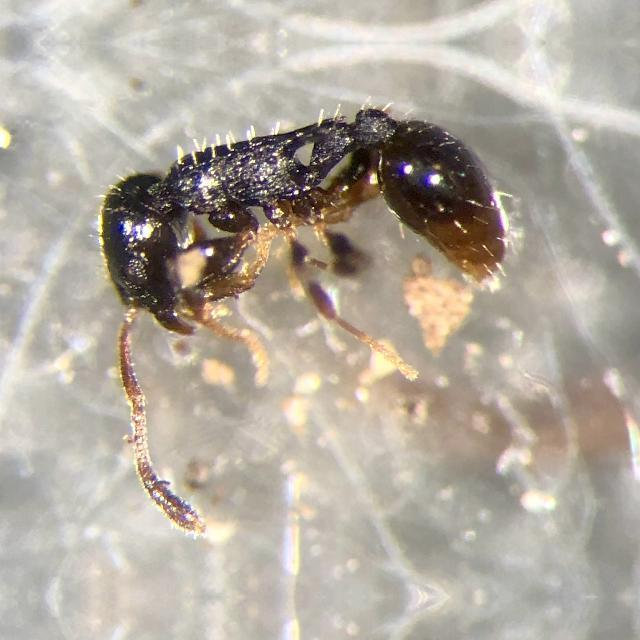Temnothorax: (26, 41, 522, 398)
